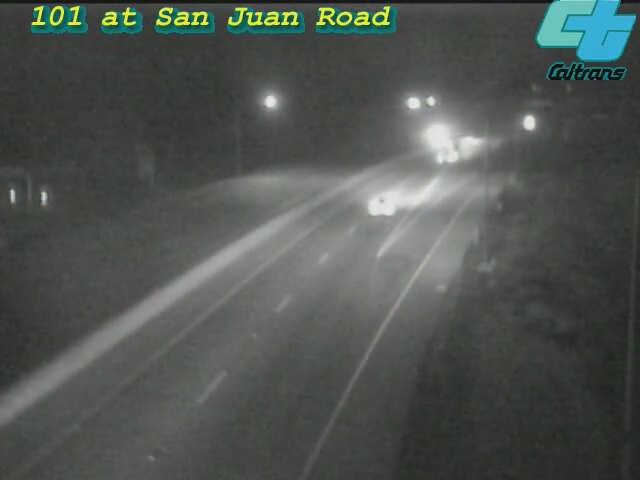vehicle: (343, 165, 423, 245), (408, 110, 458, 160), (506, 98, 556, 148), (446, 115, 496, 165), (425, 126, 475, 176)
